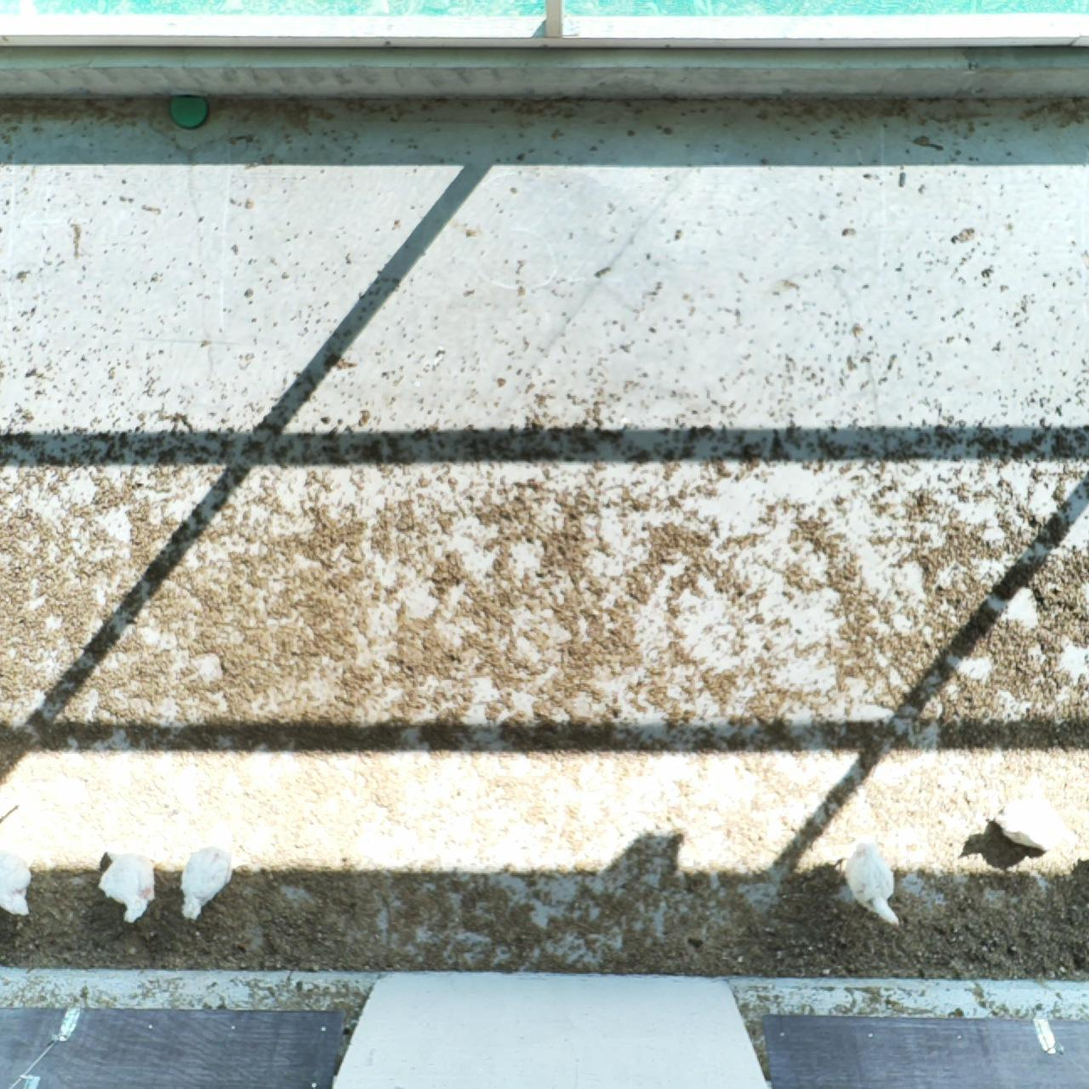chicken: (984, 784, 1076, 855), (844, 834, 907, 931), (93, 845, 162, 927), (178, 840, 237, 919), (0, 843, 38, 919)
